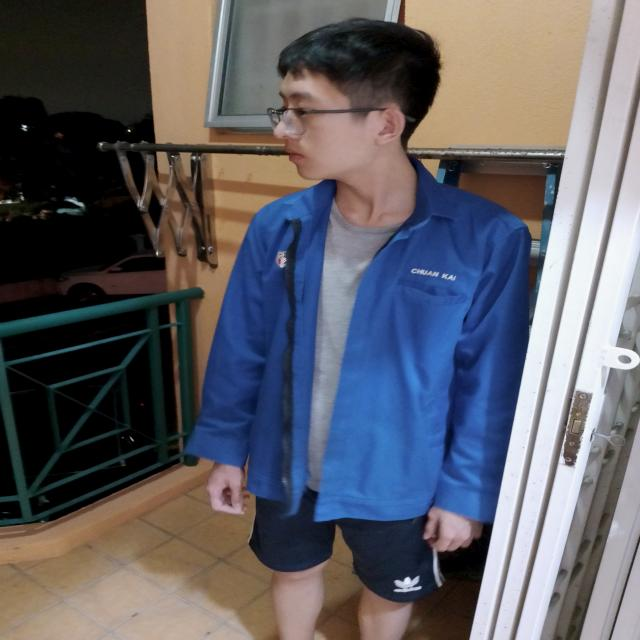person_with_labcoat: (189, 19, 530, 640)
